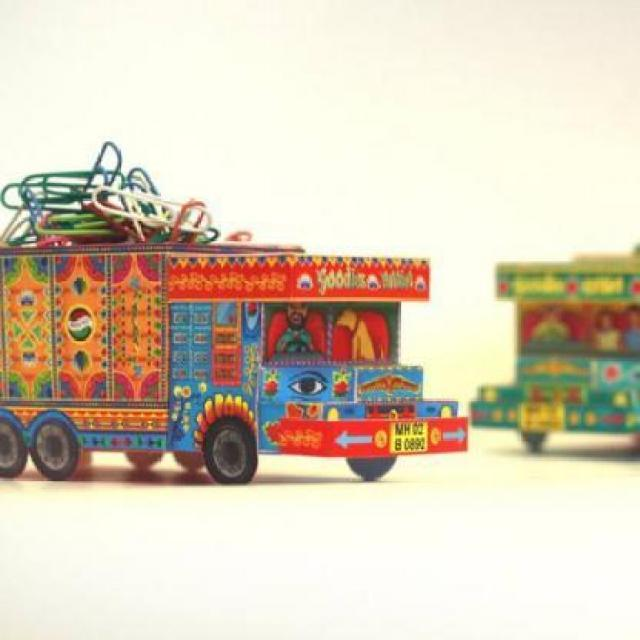vehicle: (1, 138, 468, 488)
